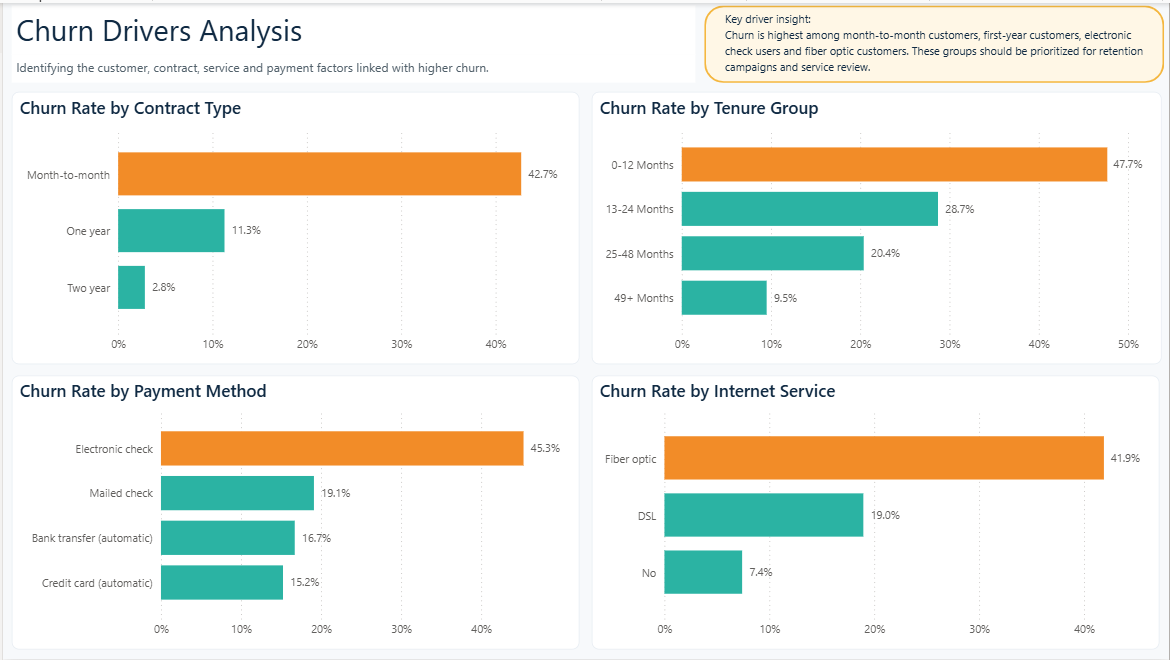

The dashboard page shown, as its layout file describes it:
{"tool":"powerbi","page":{"name":"Churn Driver Analysis","canvas":[1280,720],"ordinal":1},"visuals":[{"type":"textbox","box":[9.6,2.7,750.6,53.5],"z":0},{"type":"textbox","box":[9.6,56.3,750.6,31.6],"z":1000},{"type":"shape","box":[769.8,2.7,505,85.1],"z":2000,"group":"g1"},{"type":"clusteredBarChart","title":"Churn Rate by Contract Type","fields":{"Category":["customer_churn_risk_scores.Contract"],"Y":["_Measures.Churn Rate %"]},"box":[9.6,97.4,623,299.1],"z":2000},{"type":"textbox","box":[787.9,2.1,472,86.4],"z":3000,"group":"g1"},{"type":"clusteredBarChart","title":"Churn Rate by Tenure Group","fields":{"Category":["customer_churn_risk_scores.TenureGroup"],"Y":["_Measures.Churn Rate %"]},"box":[646.3,97.4,625.7,299.1],"z":3000},{"type":"clusteredBarChart","title":"Churn Rate by Payment Method","fields":{"Y":["_Measures.Churn Rate %"],"Category":["customer_churn_risk_scores.PaymentMethod"]},"box":[9.6,408.9,623,300.5],"z":4000},{"type":"clusteredBarChart","title":"Churn Rate by Internet Service","fields":{"Category":["customer_churn_risk_scores.InternetService"],"Y":["_Measures.Churn Rate %"]},"box":[646.3,408.9,623,300.5],"z":5000},{"type":"group","id":"g1","title":"Group 1","box":[769.8,2.1,505,86.4],"z":6000}]}

Visuals, with their boxes in screenshot pixels (x1, y1, x2, y2), scaled from the page's 1280x720 canvas onto the 1170x660 screenshot:
textbox: crop(9, 2, 695, 52)
textbox: crop(9, 52, 695, 81)
shape: crop(704, 2, 1165, 80)
"Churn Rate by Contract Type" clusteredBarChart: crop(9, 89, 578, 363)
textbox: crop(720, 2, 1152, 81)
"Churn Rate by Tenure Group" clusteredBarChart: crop(591, 89, 1163, 363)
"Churn Rate by Payment Method" clusteredBarChart: crop(9, 375, 578, 650)
"Churn Rate by Internet Service" clusteredBarChart: crop(591, 375, 1160, 650)
"Group 1" group: crop(704, 2, 1165, 81)
